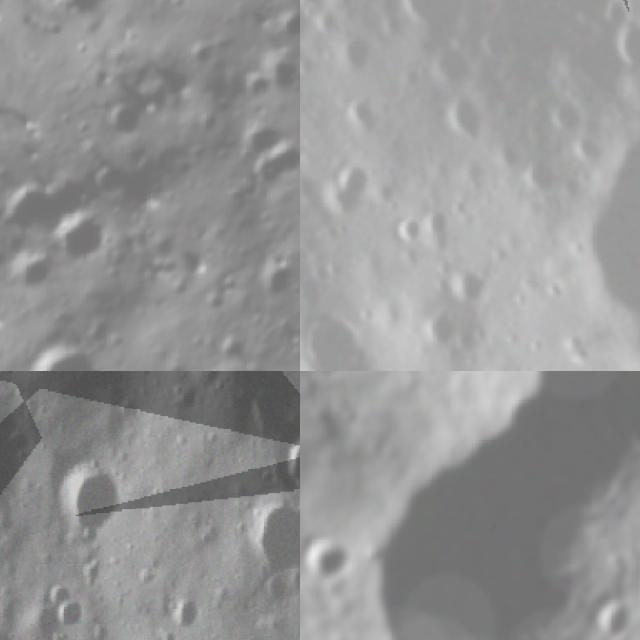crater: (529, 47, 640, 332), (45, 451, 125, 554), (194, 371, 300, 444), (39, 196, 130, 277), (312, 142, 394, 229), (82, 140, 171, 220), (0, 163, 79, 252), (300, 295, 379, 371), (244, 496, 300, 599), (404, 285, 479, 361), (9, 326, 118, 371), (587, 0, 640, 91), (245, 128, 300, 213), (320, 23, 388, 87), (387, 0, 475, 47), (300, 524, 364, 588), (424, 36, 486, 100), (506, 149, 570, 210), (442, 89, 502, 154), (437, 257, 500, 317), (0, 243, 61, 303), (94, 91, 151, 151), (539, 88, 595, 145), (337, 90, 391, 146), (588, 585, 639, 640), (564, 124, 616, 175), (383, 213, 434, 260), (413, 200, 462, 248), (47, 0, 121, 31), (369, 6, 413, 54), (592, 0, 640, 40), (272, 435, 300, 502), (52, 594, 90, 634), (166, 592, 201, 634), (300, 0, 323, 62), (300, 0, 347, 25)
